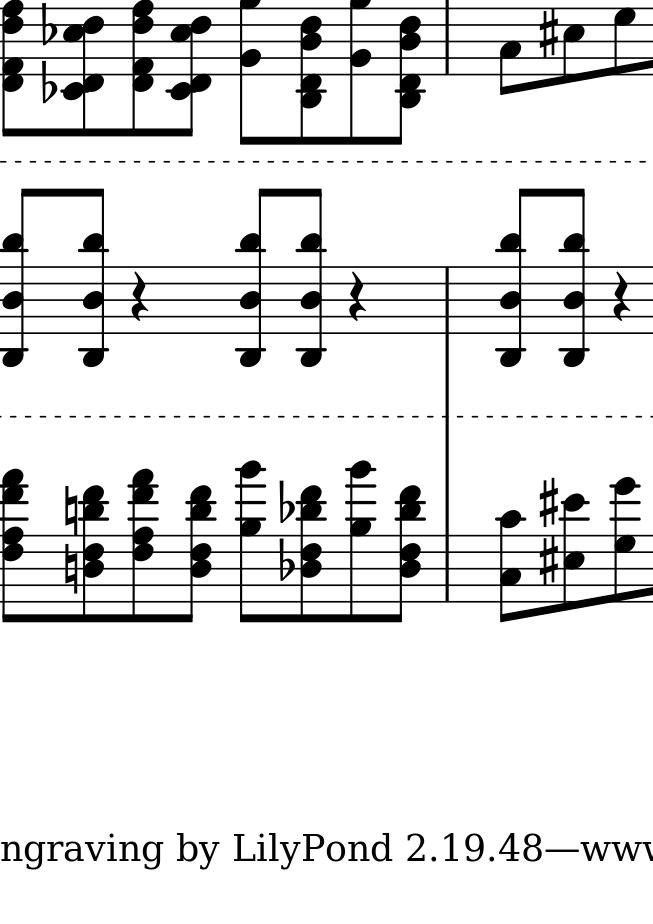8_3: (496, 5, 522, 98)
8_3_10: (496, 508, 523, 626)
8_4th: (59, 6, 111, 140), (166, 6, 215, 140), (385, 485, 428, 624), (177, 484, 217, 624), (387, 7, 425, 146), (1, 468, 30, 624), (127, 466, 155, 623), (296, 483, 325, 623), (298, 6, 326, 149), (131, 1, 159, 140), (79, 483, 106, 623), (1, 1, 26, 140)
8_5: (560, 5, 585, 86)
8_5_12: (559, 492, 590, 612)
8_7: (612, 5, 636, 79)
8_7_14: (607, 474, 638, 604)
8_th: (1, 187, 41, 368), (236, 187, 274, 370), (498, 186, 531, 368), (560, 187, 592, 368), (78, 187, 110, 367), (298, 187, 328, 366)
Flat: (37, 1, 59, 48), (276, 478, 297, 524), (39, 59, 58, 106), (277, 537, 296, 583)
Natural: (62, 544, 79, 597), (63, 484, 79, 535)
Rests4: (345, 270, 370, 325), (608, 269, 632, 326), (128, 271, 151, 324)
Sharp: (535, 536, 561, 589), (537, 7, 560, 60), (537, 476, 559, 527)
Single_barline: (438, 1, 454, 73), (438, 534, 455, 601), (438, 268, 454, 332)
